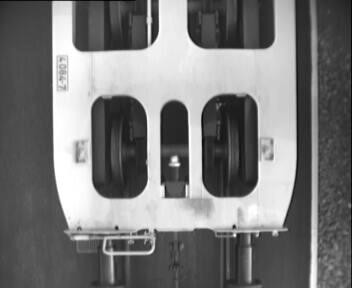twist_lock_2: (84, 88, 270, 207)
